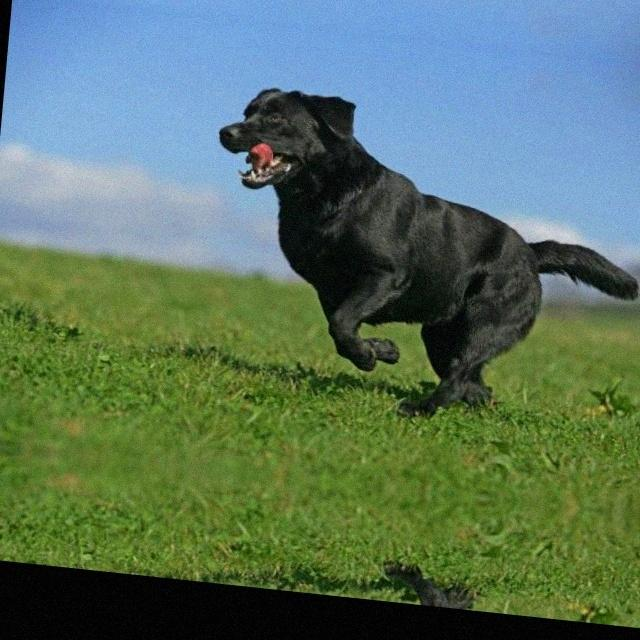dog: (172, 55, 640, 440), (156, 536, 601, 624)
